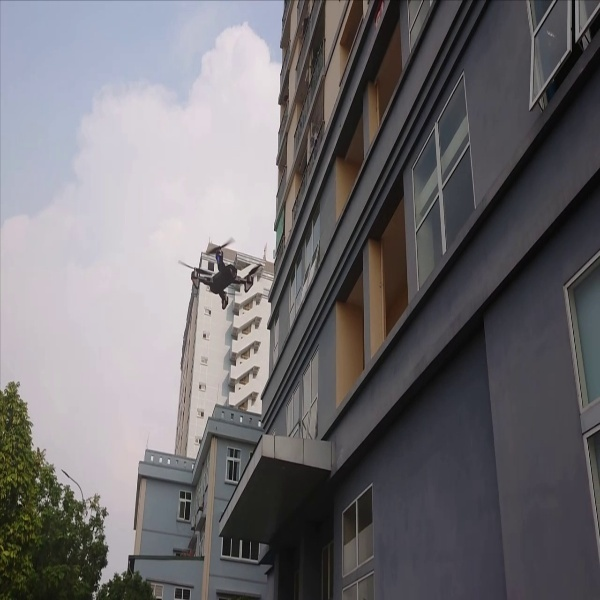drone: (177, 234, 262, 311)
